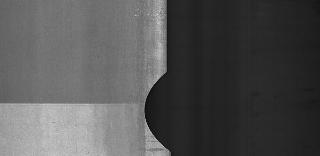welding line: (3, 97, 163, 109)
